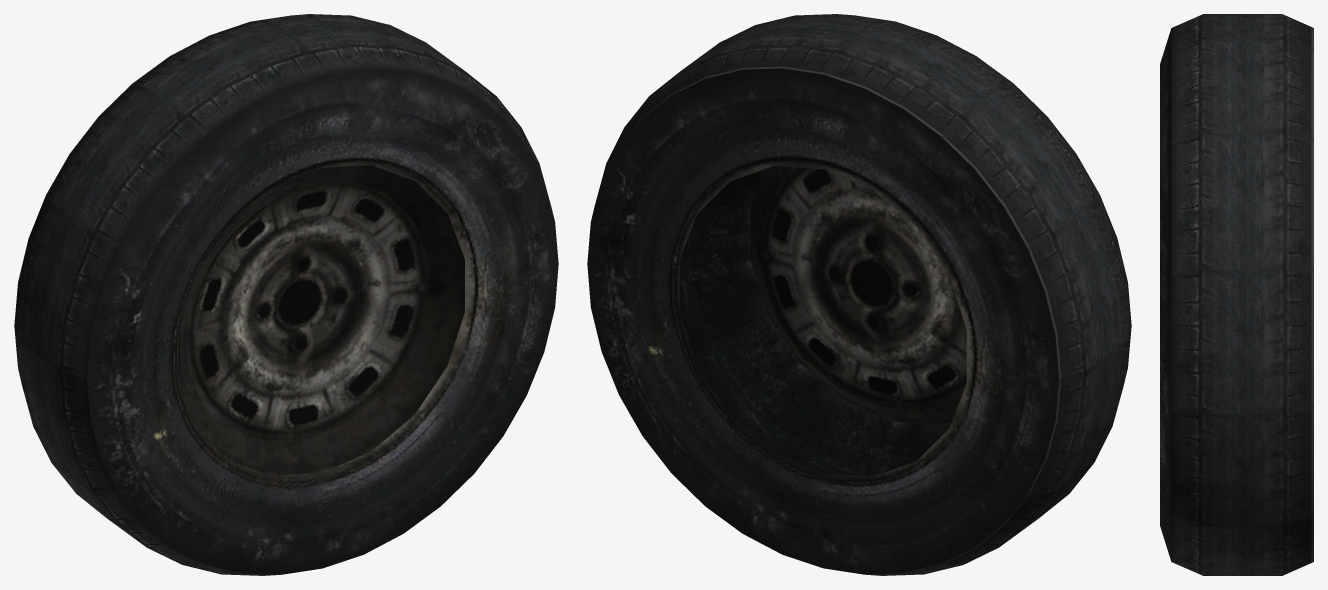
File: Roue2.obj
3 views of the same model, side by side, from view 1: azimuth 30°, elevation 25°; view 2: azimuth 150°, elevation 25°; view 3: azimuth 270°, elevation 25° (orthographic).
Visible parts, largest first — view 1: Roue1; view 2: Roue1; view 3: Roue1.
Boxes of the visible parts, x1,y1,x2,y2 form: Roue1: (14, 14, 558, 575); Roue1: (587, 14, 1131, 575); Roue1: (1160, 14, 1313, 575).
Bounding box in the file's own units: 2.53 × 2.53 × 0.6916.
Materials: 1 (1 with a texture image).
